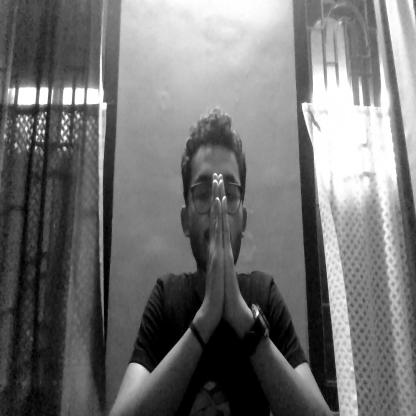Normal: (176, 98, 256, 282)
